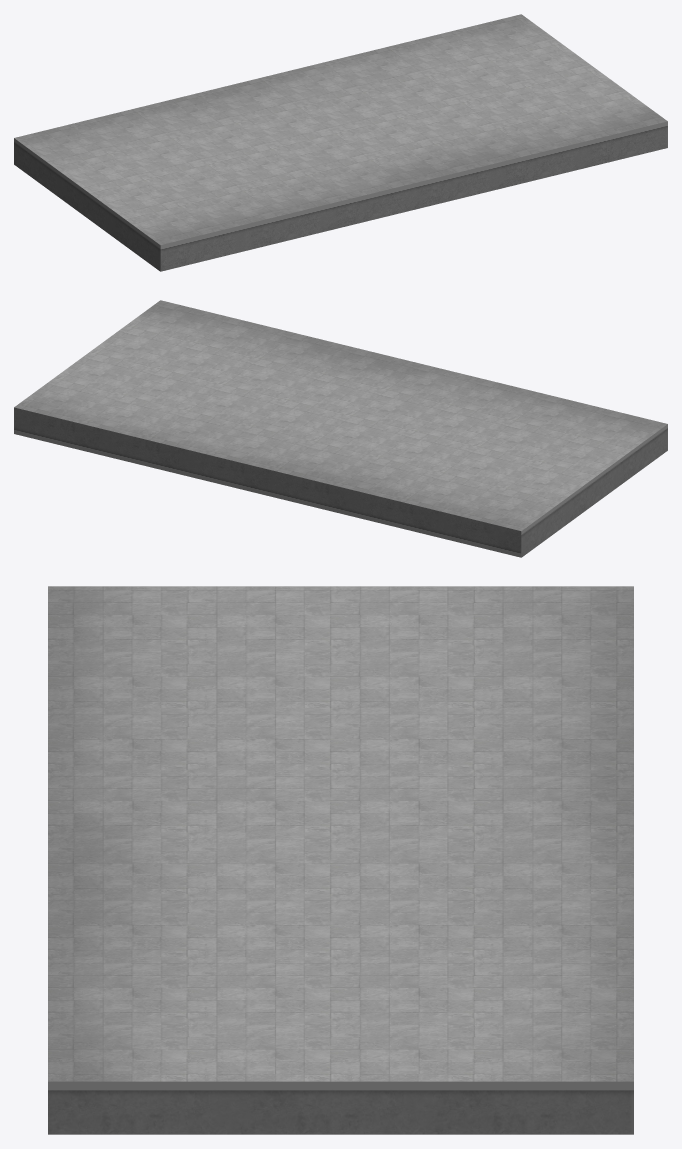
File: ground.dae
The picture shows the model from 3 angles, top to bottom: view 1: azimuth 30°, elevation 25°; view 2: azimuth 150°, elevation 25°; view 3: azimuth 270°, elevation 25°; orthographic projection. The views are drawn at different scales.
Visible parts, largest first — view 1: ground; view 2: ground; view 3: ground.
Part boxes in pixels (x1=…): ground: x1=14, y1=14, x2=667, y2=271; ground: x1=14, y1=300, x2=667, y2=557; ground: x1=48, y1=586, x2=633, y2=1134.
Bounding box in the file's own units: 20 × 1 × 10.
